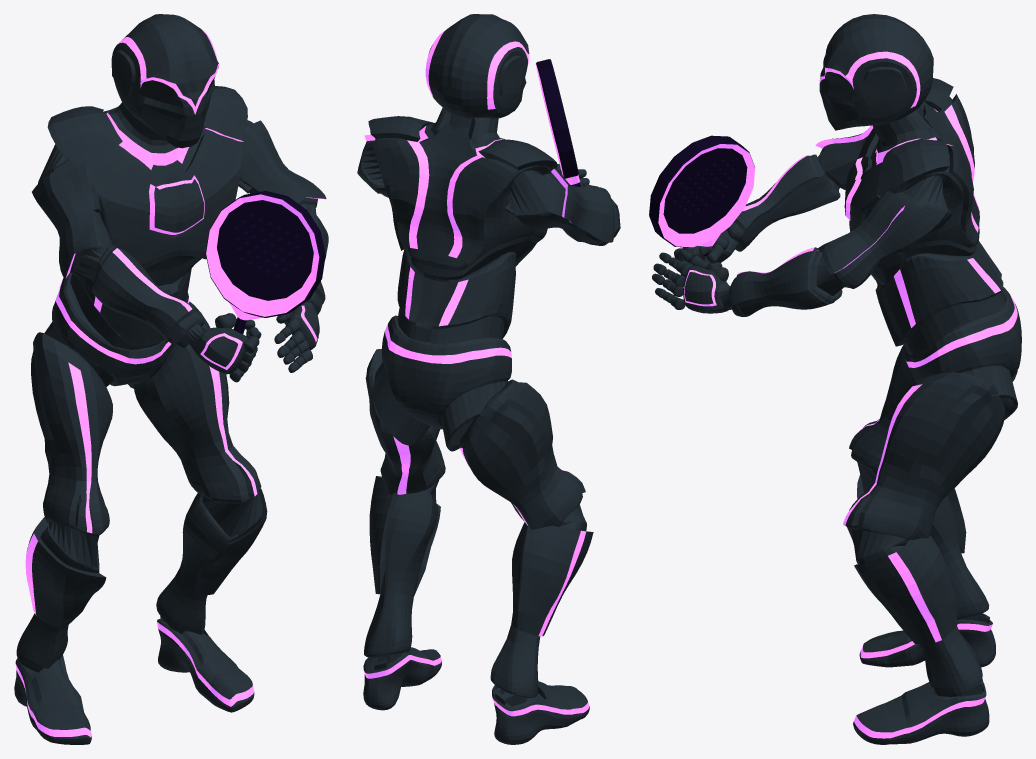
The model's file is Player1.glb.
3 renders of one model, left to right at view 1: azimuth 30°, elevation 25°; view 2: azimuth 150°, elevation 25°; view 3: azimuth 270°, elevation 25°, orthographic. The views are drawn at different scales.
Parts seen in each view (by area): view 1: Alpha_Surface; view 2: Alpha_Surface; view 3: Alpha_Surface.
Boxes of the visible parts, left/top/right/bottom form: Alpha_Surface: left=14, top=14, right=328, bottom=744; Alpha_Surface: left=357, top=14, right=620, bottom=744; Alpha_Surface: left=649, top=14, right=1021, bottom=744.
Size of the model in its own units: 0.5905 by 1.55 by 0.7579.
